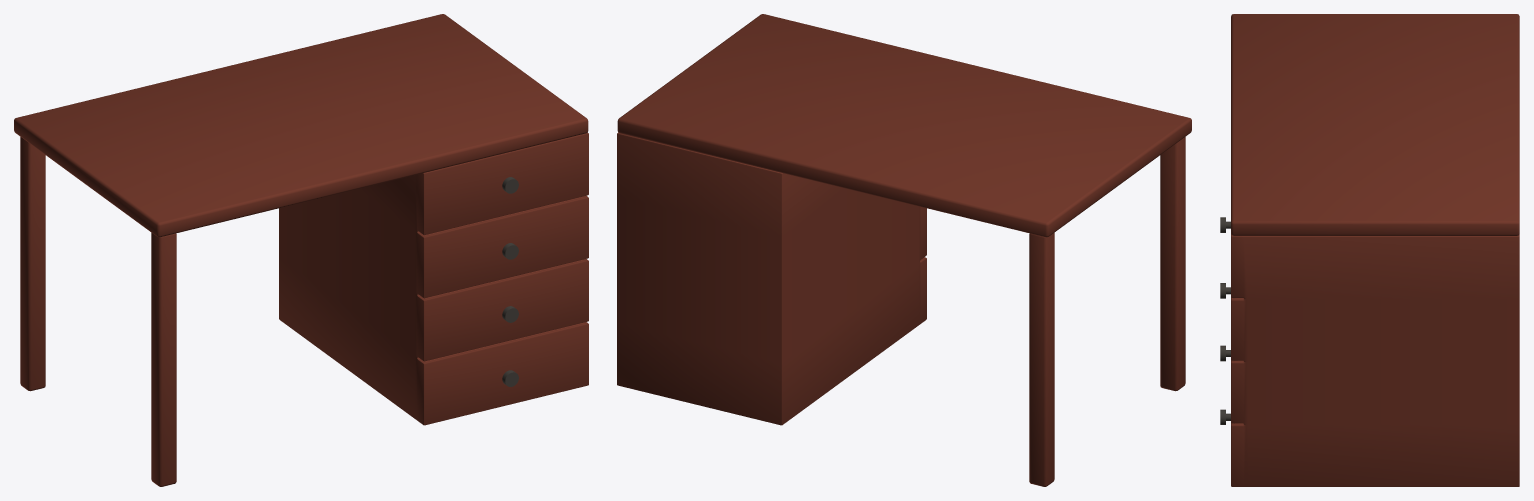
Rendered from table.glb.
The picture shows the model from 3 angles, left to right: view 1: azimuth 30°, elevation 25°; view 2: azimuth 150°, elevation 25°; view 3: azimuth 270°, elevation 25°; orthographic projection.
Visible parts, largest first — view 1: TableTop1, Drawers, TableLeg; view 2: TableTop1, Drawers, TableLeg; view 3: Drawers, TableTop1.
Boxes of the visible parts, x1,y1,x2,y2 form: TableTop1: [14, 14, 588, 237]; Drawers: [279, 132, 588, 425]; TableLeg: [20, 137, 176, 486]; TableTop1: [617, 14, 1191, 237]; Drawers: [617, 132, 926, 425]; TableLeg: [1029, 137, 1185, 486]; Drawers: [1231, 234, 1519, 486]; TableTop1: [1231, 14, 1519, 235].
Bounding box in the file's own units: 1.79 × 1.06 × 1.08.
